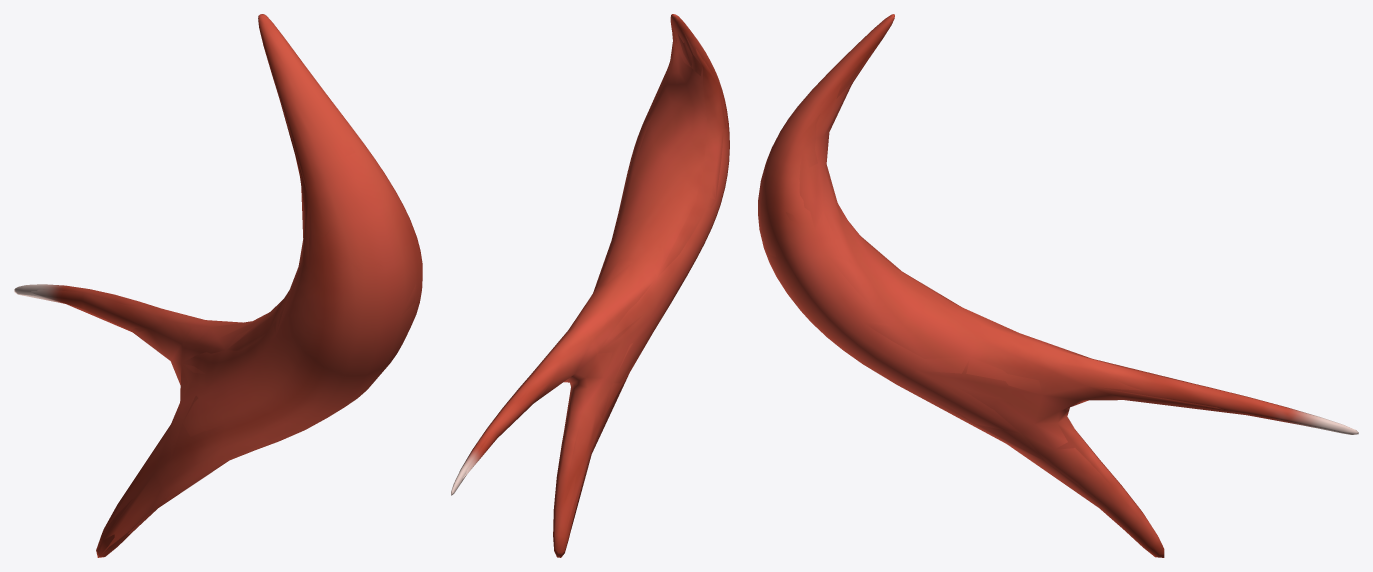
Rendered from R Biceps Brachii.fbx.
The picture shows the model from 3 angles, left to right: view 1: azimuth 30°, elevation 25°; view 2: azimuth 150°, elevation 25°; view 3: azimuth 270°, elevation 25°; orthographic projection. The views are drawn at different scales.
Parts seen in each view (by area): view 1: R Biceps Brachii, R Biceps Brachii low; view 2: R Biceps Brachii low, R Biceps Brachii; view 3: R Biceps Brachii, R Biceps Brachii low.
Part boxes in pixels (x1,y1,x2,y2): R Biceps Brachii: [14, 14, 422, 557]; R Biceps Brachii low: [19, 29, 421, 554]; R Biceps Brachii low: [463, 29, 726, 556]; R Biceps Brachii: [451, 14, 729, 557]; R Biceps Brachii: [758, 14, 1358, 557]; R Biceps Brachii low: [768, 43, 1297, 507].
Size of the model in its own units: 3.02 by 14.96 by 14.99.
